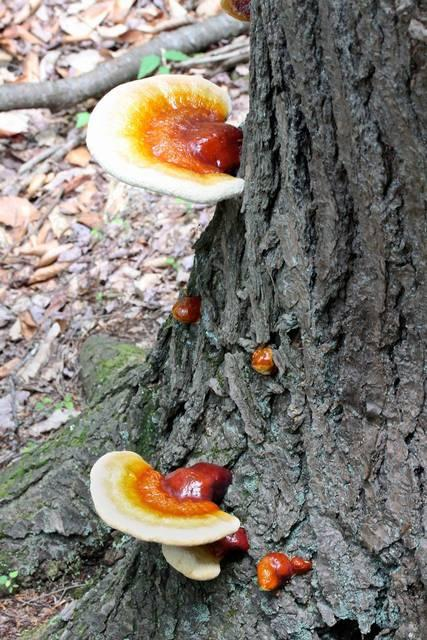poisonous_mushroom: (84, 72, 245, 206), (87, 448, 247, 582)
